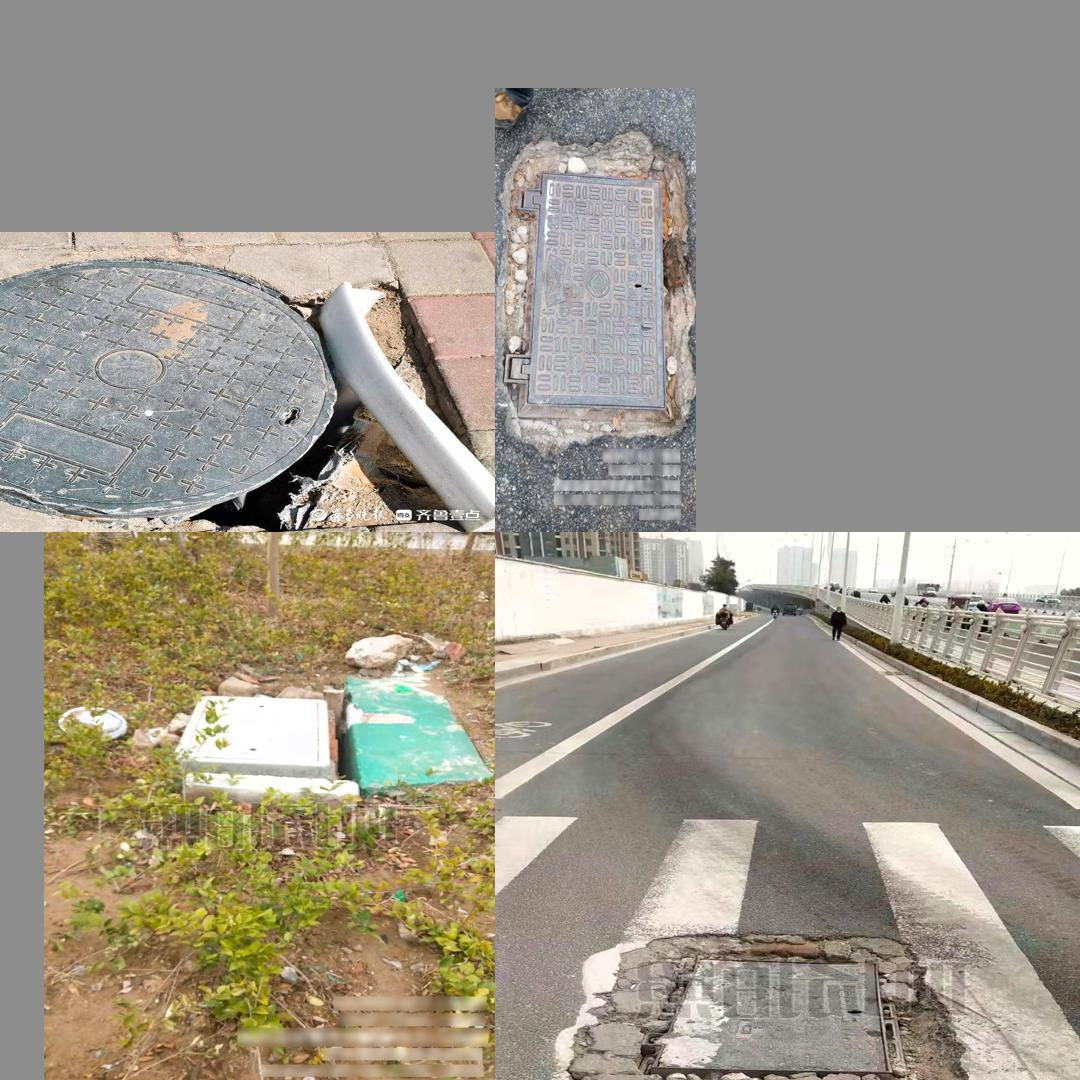circle: (0, 260, 449, 523), (501, 152, 685, 437), (163, 688, 362, 795)
